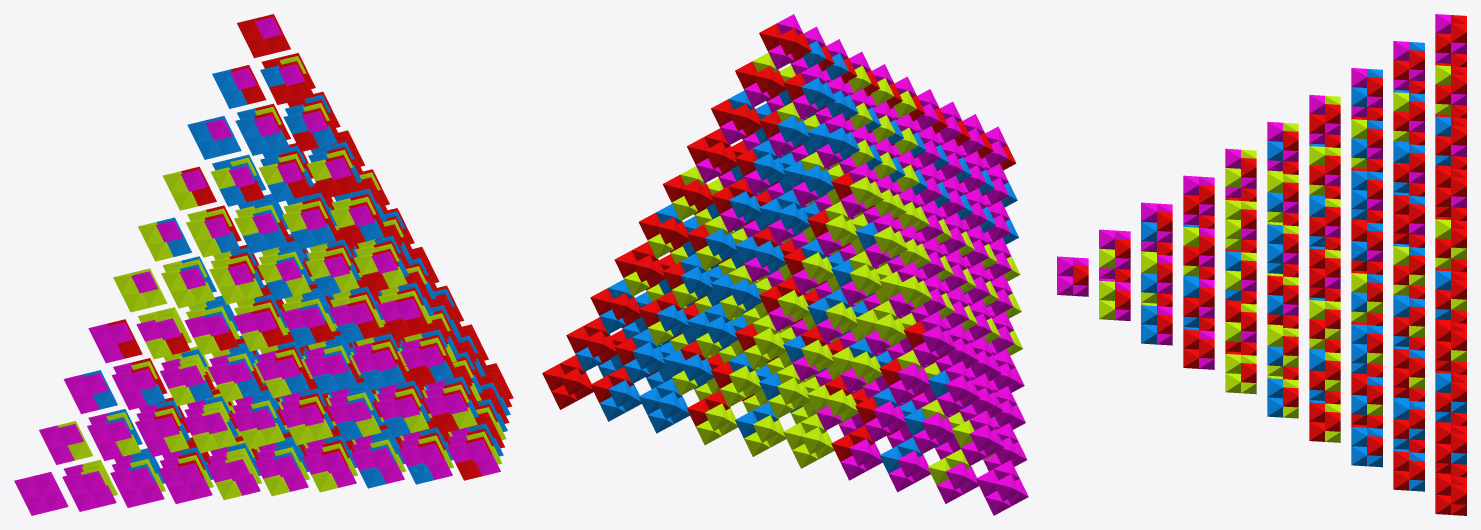
The model's file is tet4.glb.
The picture shows the model from 3 angles, left to right: view 1: azimuth 30°, elevation 25°; view 2: azimuth 150°, elevation 25°; view 3: azimuth 270°, elevation 25°; orthographic projection. The views are drawn at different scales.
Size of the model in its own units: 9.75 by 8.66 by 7.96.
